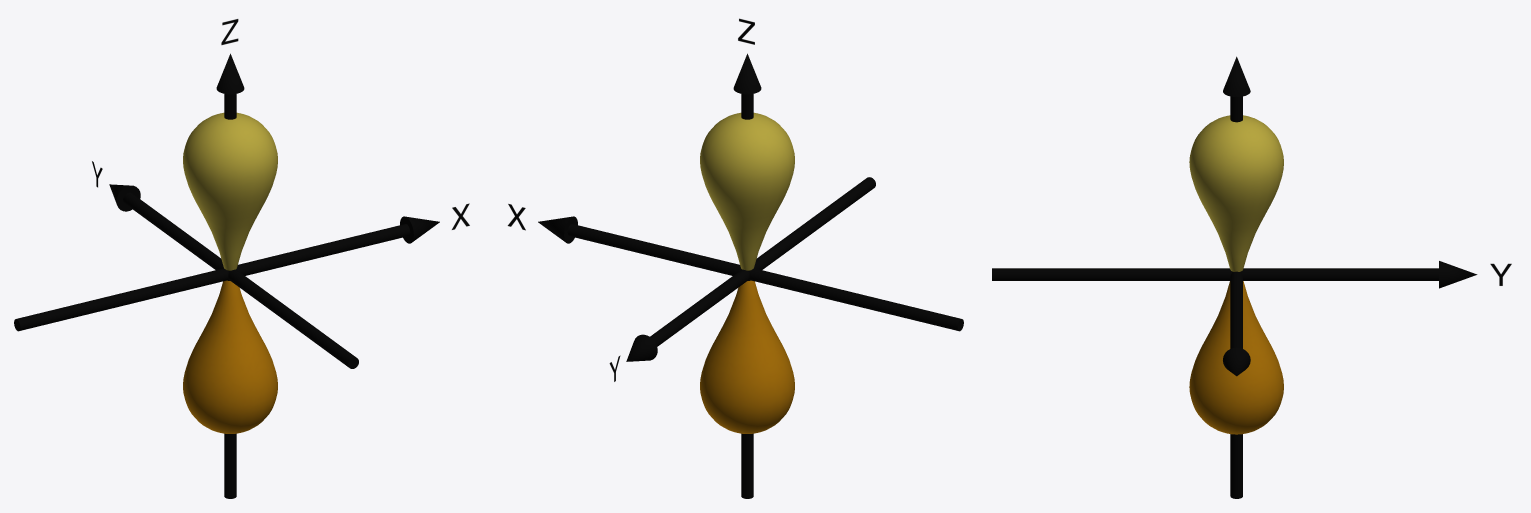
3 renders of one model, left to right at view 1: azimuth 30°, elevation 25°; view 2: azimuth 150°, elevation 25°; view 3: azimuth 270°, elevation 25°, orthographic.
Visible parts, largest first — view 1: P_Orbital; view 2: P_Orbital; view 3: P_Orbital.
Part boxes in pixels (x1=…): P_Orbital: x1=14, y1=53, x2=439, y2=498; P_Orbital: x1=538, y1=53, x2=963, y2=498; P_Orbital: x1=992, y1=56, x2=1477, y2=498.
Bounding box in the file's own units: 93.5 × 93.5 × 93.5.
2 materials, 2 textured.
